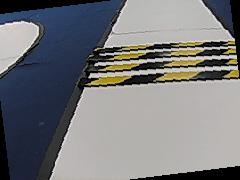bump: (81, 37, 236, 89)
